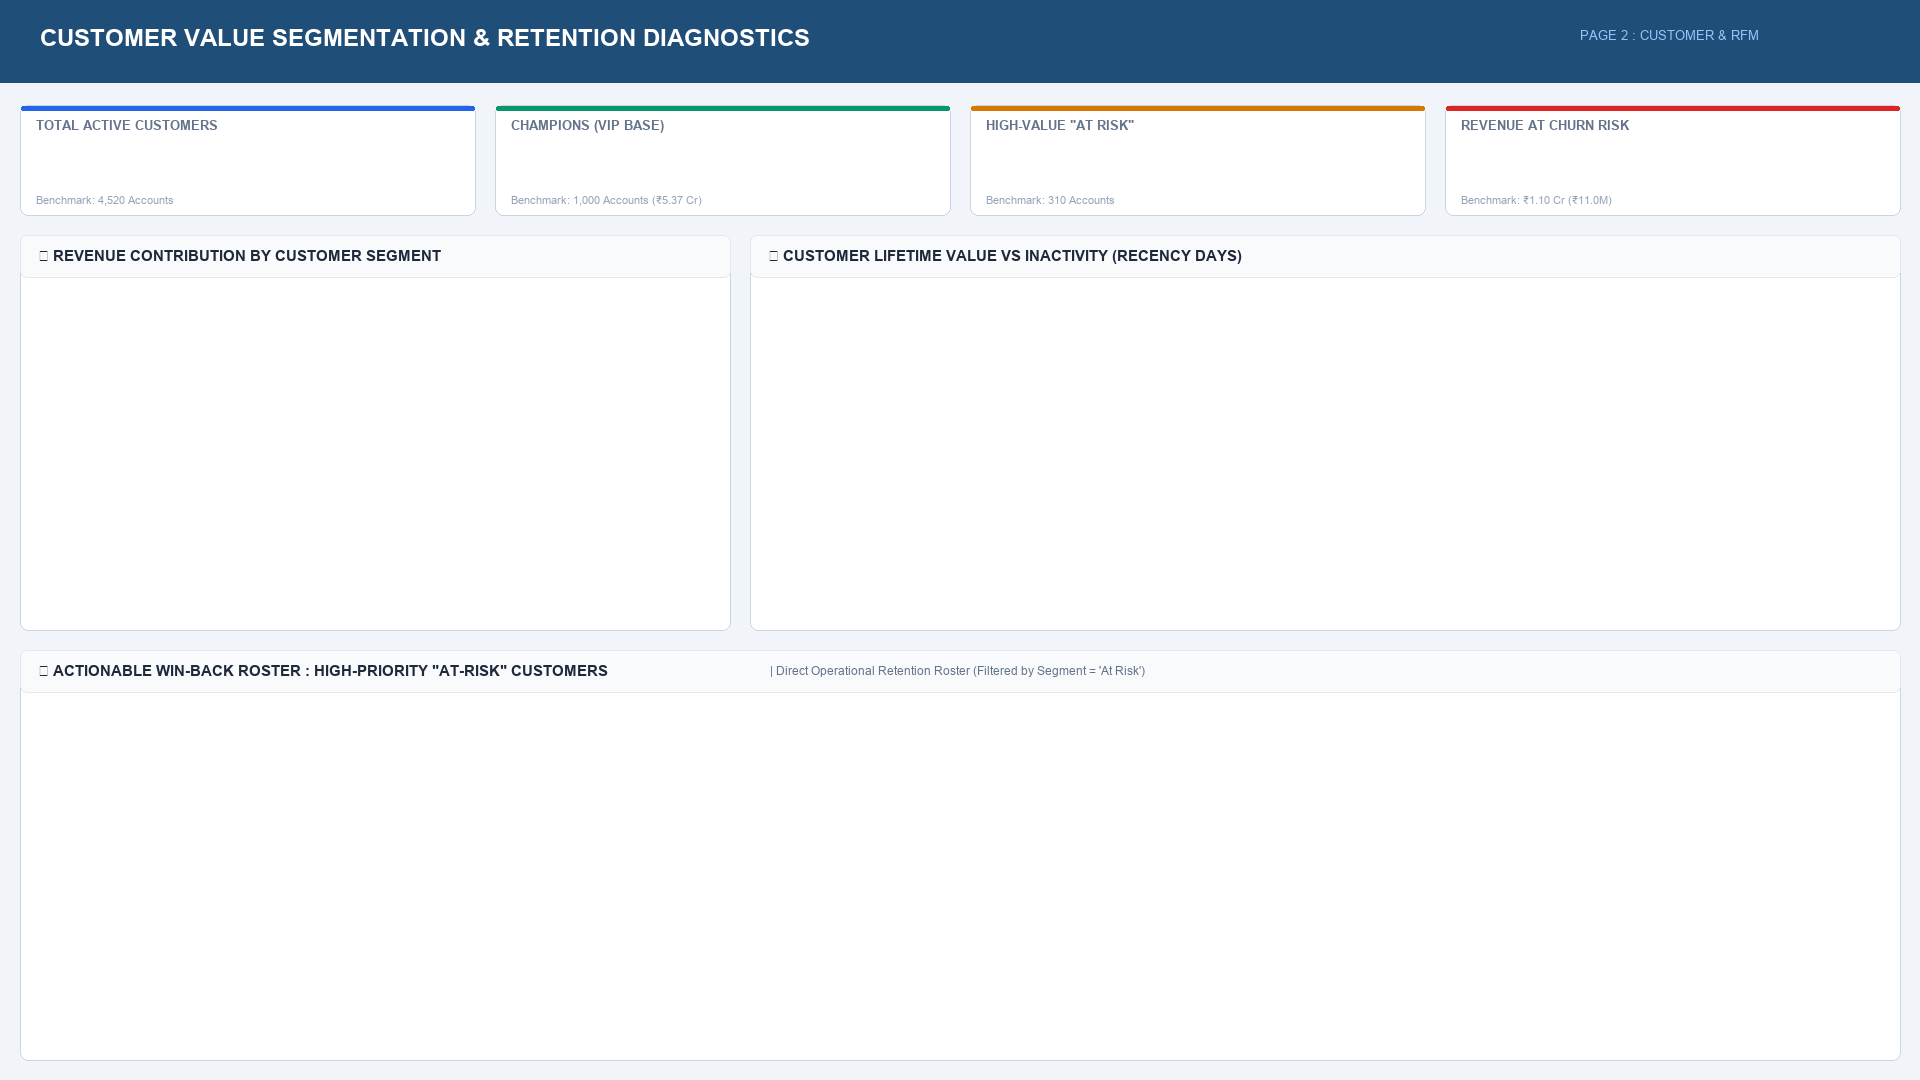

Layout of this report page (visuals, bound fields, positions):
{"tool":"powerbi","page":{"name":"Customers & RFM Analytics","canvas":[1920,1080],"ordinal":1},"visuals":[{"type":"shape","box":[0,0,1920.1,81.4],"z":0},{"type":"textbox","box":[0,19.9,1920.1,36.2],"z":1000},{"type":"cardVisual","title":"Active Customers","fields":{"Data":["_Measures.Active Customers"]},"box":[19.9,99.5,456,112.2],"z":2000},{"type":"cardVisual","title":"Champions Customers","fields":{"Data":["_Measures.Champions Customers"]},"box":[495.8,99.5,463.3,112.2],"z":3000},{"type":"cardVisual","title":"At Risk Customers","fields":{"Data":["_Measures.At Risk Customers"]},"box":[973.6,99.5,447,112.2],"z":4000},{"type":"cardVisual","title":"At Risk Revenue ","fields":{"Data":["_Measures.At Risk Revenue"]},"box":[1444.1,99.5,456,112.2],"z":5000},{"type":"donutChart","title":"Revenue by Customer Segment","fields":{"Category":["Dim_Customers.RFM_Segment"],"Y":["_Measures.Total Net Revenue"]},"box":[20,235,710,395],"z":6000},{"type":"scatterChart","title":"Customer Spend vs Days Inactive","fields":{"Category":["Dim_Customers.name"],"Series":["Dim_Customers.RFM_Segment"],"X":["Sum(Dim_Customers.recency_days)"],"Y":["_Measures.Total Net Revenue"]},"box":[750,235,1150,395],"z":7000},{"type":"tableEx","title":"At-Risk Customers (Win-Back List)","fields":{"Values":["Dim_Customers.name","Dim_Customers.email","Dim_Region.region_name","Sum(Dim_Customers.recency_days)","_Measures.Total Net Revenue"]},"box":[20,650,1880,410],"z":8000}]}

Visuals, with their boxes in screenshot pixels (x1, y1, x2, y2), scaled from the page's 1920x1080 canvas onto the 1920x1080 screenshot:
shape: <box>0,0,1919,81</box>
textbox: <box>0,20,1919,56</box>
"Active Customers" cardVisual: <box>20,100,476,212</box>
"Champions Customers" cardVisual: <box>496,100,959,212</box>
"At Risk Customers" cardVisual: <box>974,100,1421,212</box>
"At Risk Revenue " cardVisual: <box>1444,100,1900,212</box>
"Revenue by Customer Segment" donutChart: <box>20,235,730,630</box>
"Customer Spend vs Days Inactive" scatterChart: <box>750,235,1900,630</box>
"At-Risk Customers (Win-Back List)" tableEx: <box>20,650,1900,1060</box>
